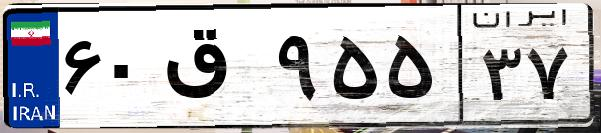0: (110, 28, 158, 98)
3: (475, 38, 525, 113)
5: (385, 28, 445, 110), (330, 28, 385, 110)
6: (57, 26, 110, 100)
7: (525, 38, 570, 115)
9: (270, 28, 330, 110)
ق: (158, 20, 270, 120)
